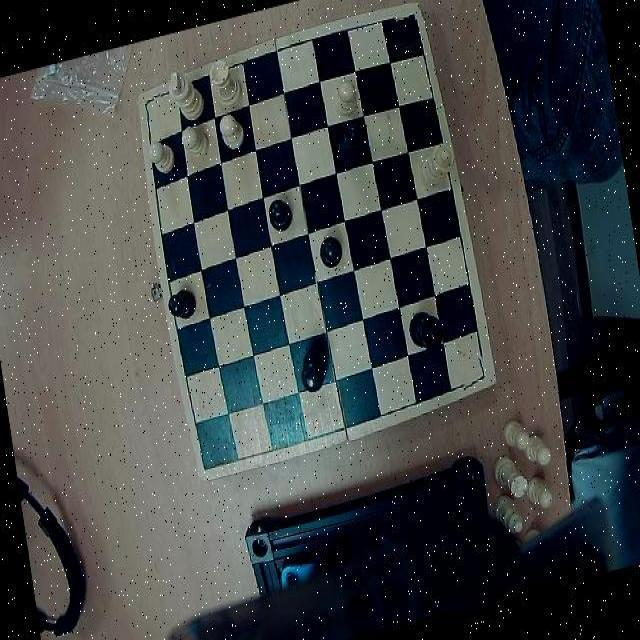chess-table-corners: (459, 353, 494, 392), (394, 2, 426, 38), (196, 443, 228, 477), (137, 86, 165, 120)
